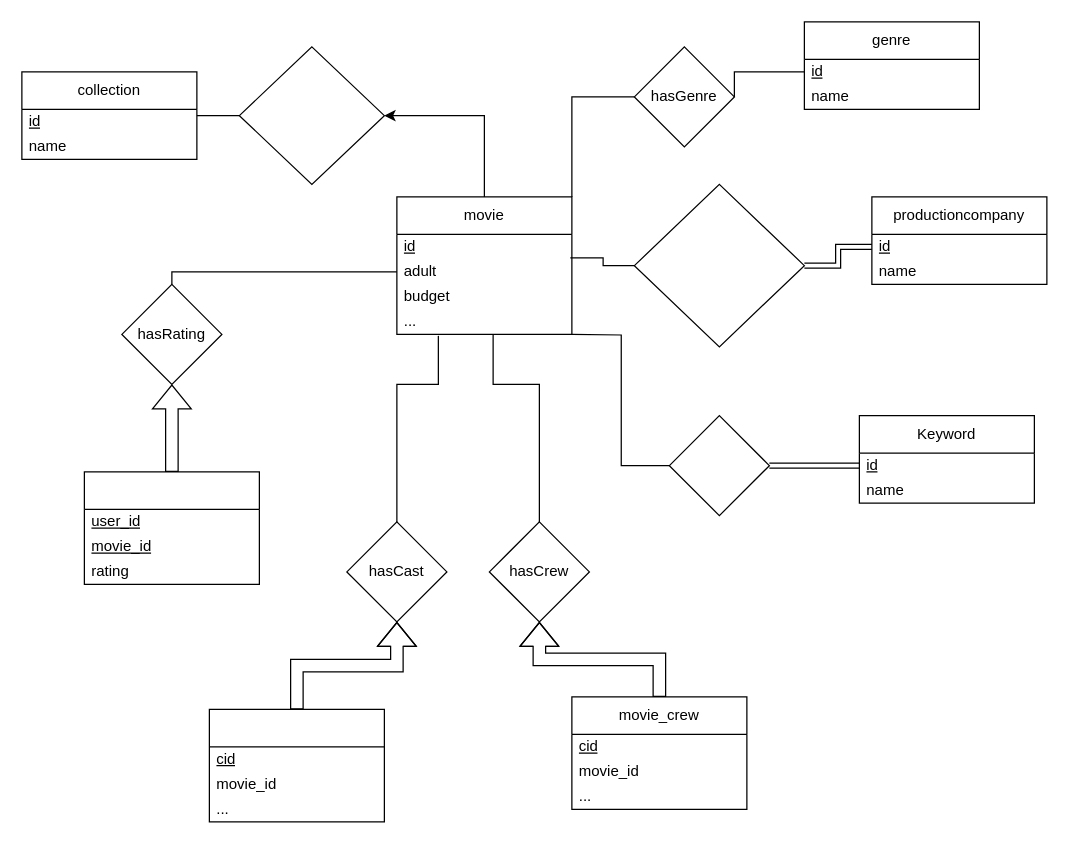
Image size: 1069x844. Some labels were removed from this diagram. Here are the shapes that lost their labels. From the top down, the box of each, then its label:
(238, 46, 384, 184): belongsTocollection
(633, 183, 804, 347): hasProductioncompany
(668, 414, 769, 516): haskeyword
(83, 471, 259, 584): ratings
(208, 708, 384, 822): movie_cast
